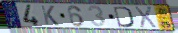3: (88, 5, 108, 29)
4: (23, 4, 42, 27)
6: (67, 5, 85, 28)
D: (112, 5, 135, 28)
K: (39, 4, 61, 27)
X: (134, 6, 158, 29)
